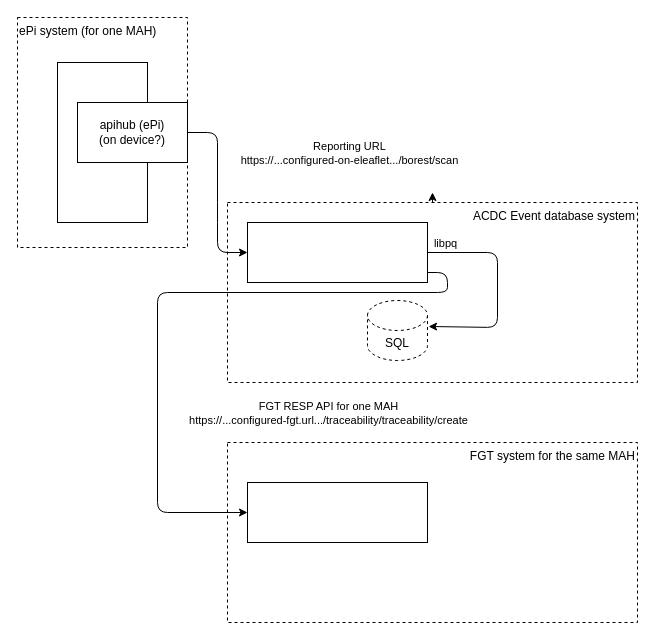
The diagram is 655 pixels wide and 640 high, and some of its shapes have lost their labels. The shapes that lost their labels are listed below. From the top down, each one's box as (x1, y1, x2, y2) in pixels, then its label:
(56, 62, 148, 222): eLeaflet
(246, 222, 428, 282): ACDC Demo
(246, 482, 428, 542): FGT MAH apihub
